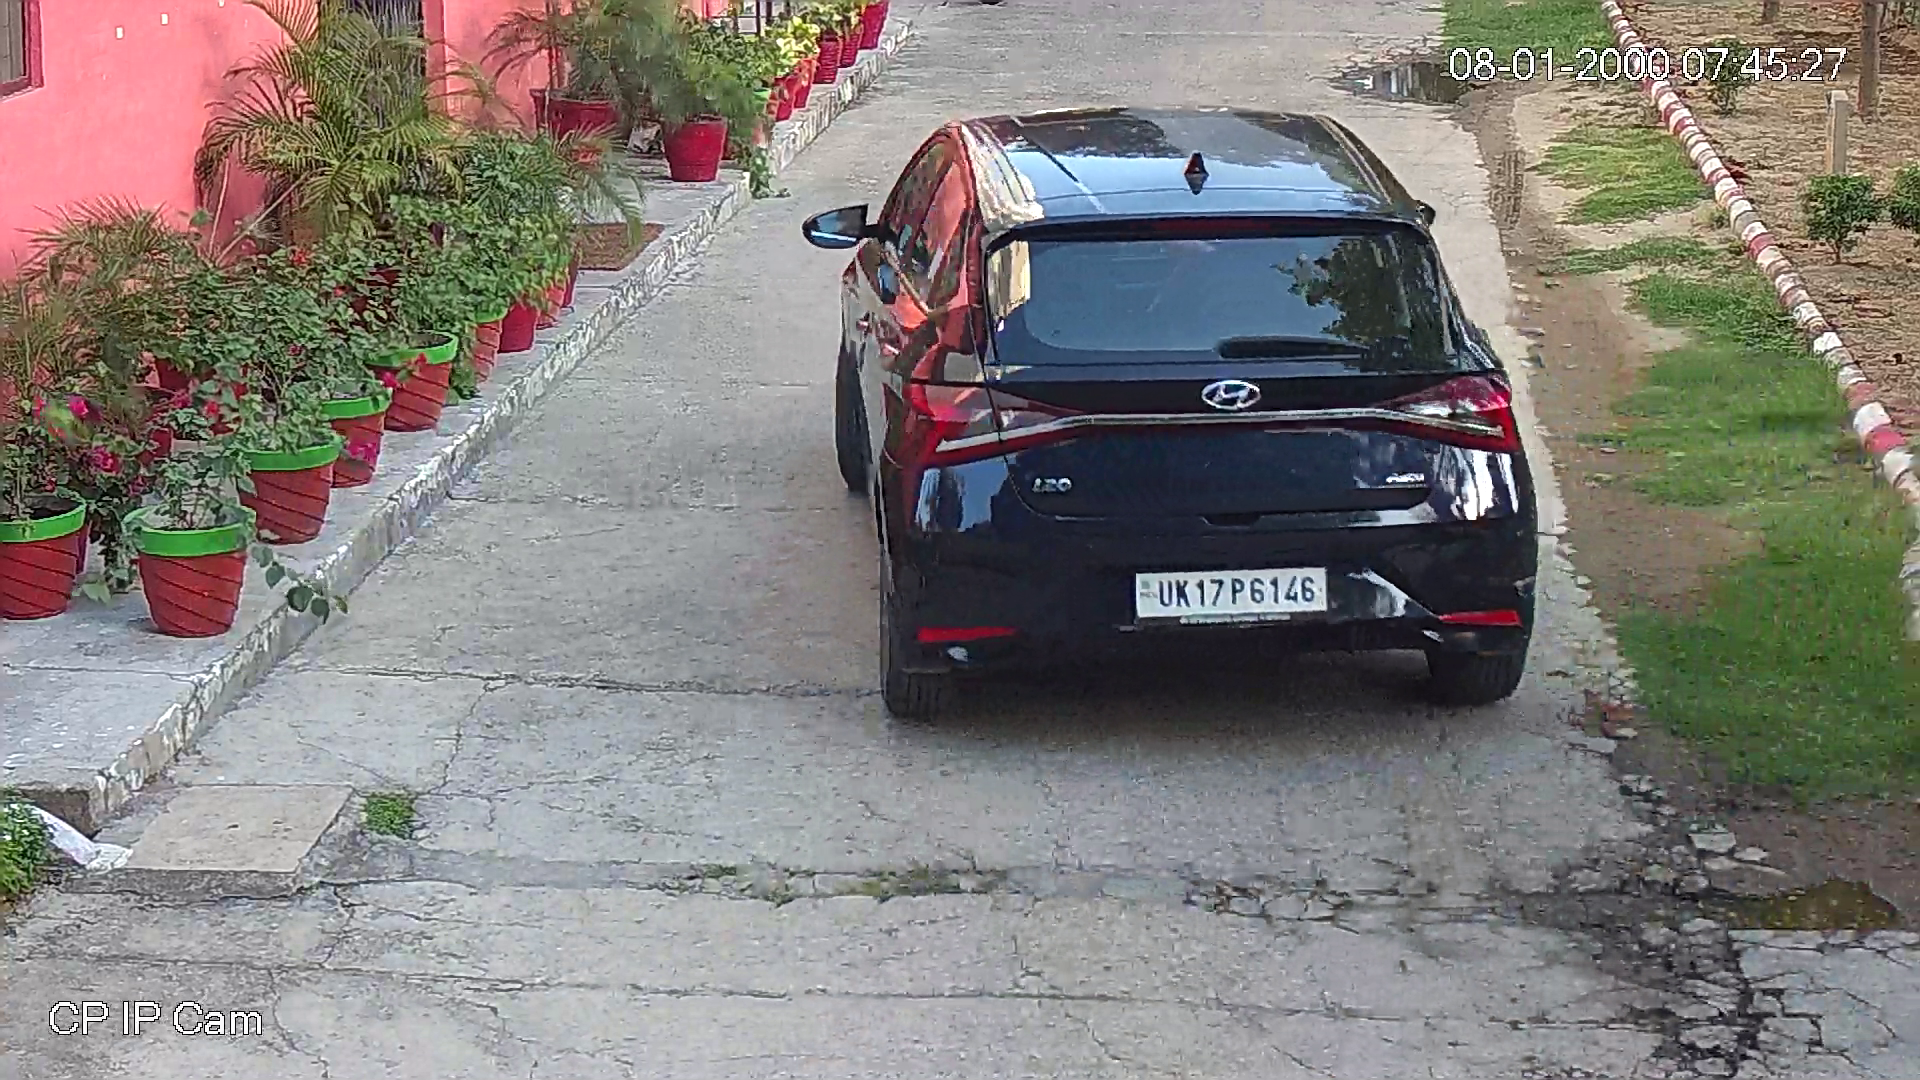plate: (1138, 565, 1325, 616)
